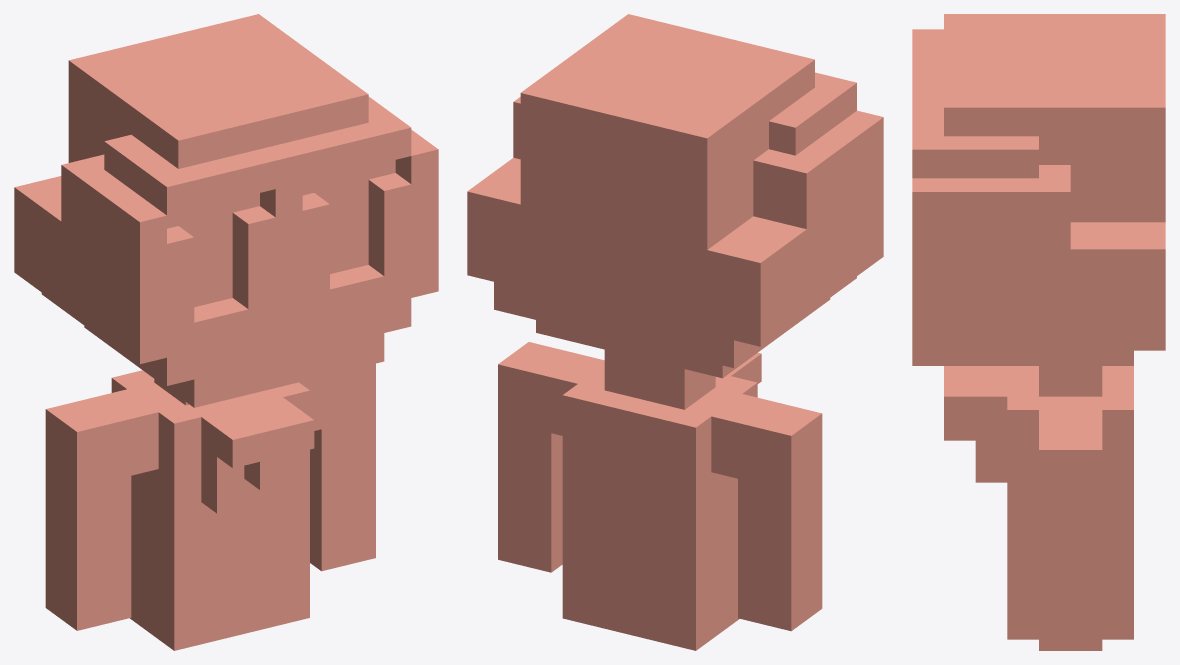
File: Union_7.fbx
3 views of the same model, side by side, from view 1: azimuth 30°, elevation 25°; view 2: azimuth 150°, elevation 25°; view 3: azimuth 270°, elevation 25° (orthographic). The views are drawn at different scales.
Visible parts, largest first — view 1: Union_7; view 2: Union_7; view 3: Union_7.
Part boxes in pixels (x1,y1,x2,y2): Union_7: (14, 14, 438, 650); Union_7: (467, 14, 883, 650); Union_7: (912, 14, 1165, 650).
Size of the model in its own units: 11 by 19 by 8.
1 material, 1 textured.
